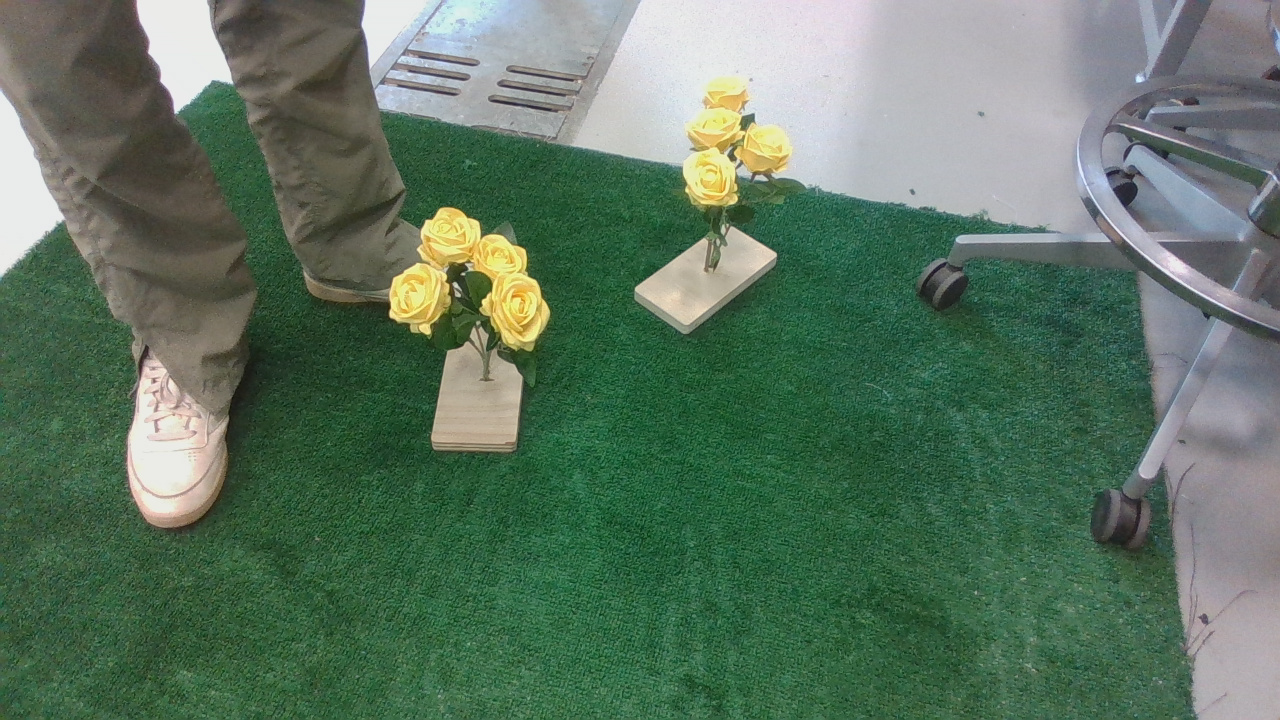rose: (385, 209, 585, 410), (677, 74, 823, 281)
